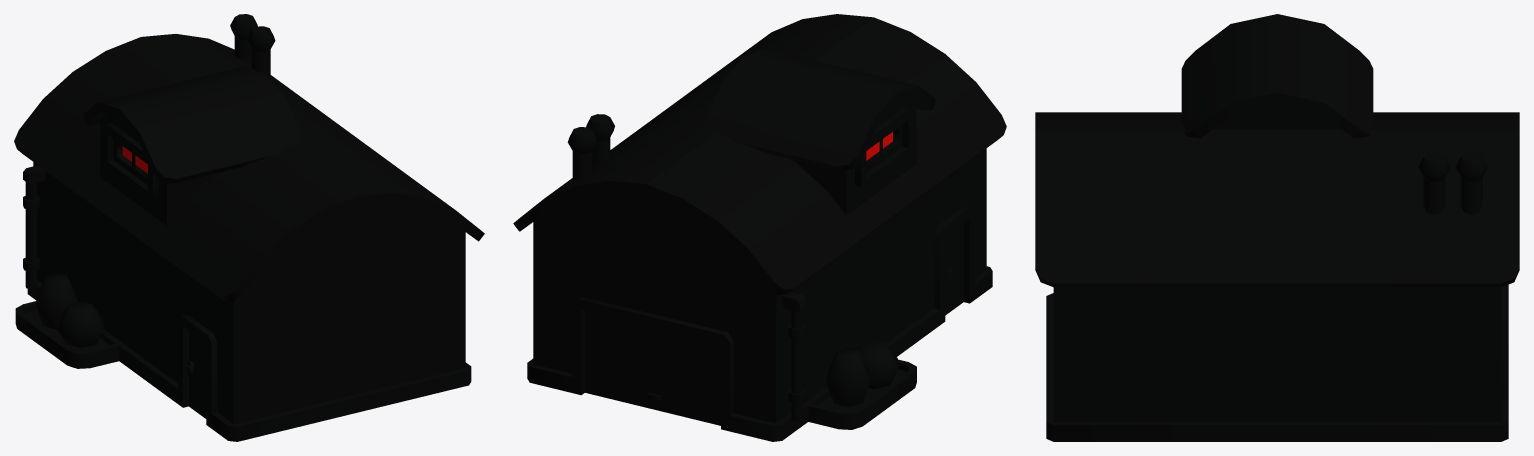
Rendered from building-j.glb.
3 renders of one model, left to right at view 1: azimuth 30°, elevation 25°; view 2: azimuth 150°, elevation 25°; view 3: azimuth 270°, elevation 25°, orthographic. The views are drawn at different scales.
Parts seen in each view (by area): view 1: building-j; view 2: building-j; view 3: building-j.
Part boxes in pixels (x1=…): building-j: x1=14, y1=14, x2=484, y2=441; building-j: x1=513, y1=14, x2=1006, y2=441; building-j: x1=1035, y1=14, x2=1519, y2=441.
Size of the model in its own units: 1.03 by 0.8612 by 1.3.
1 material, 1 textured.
